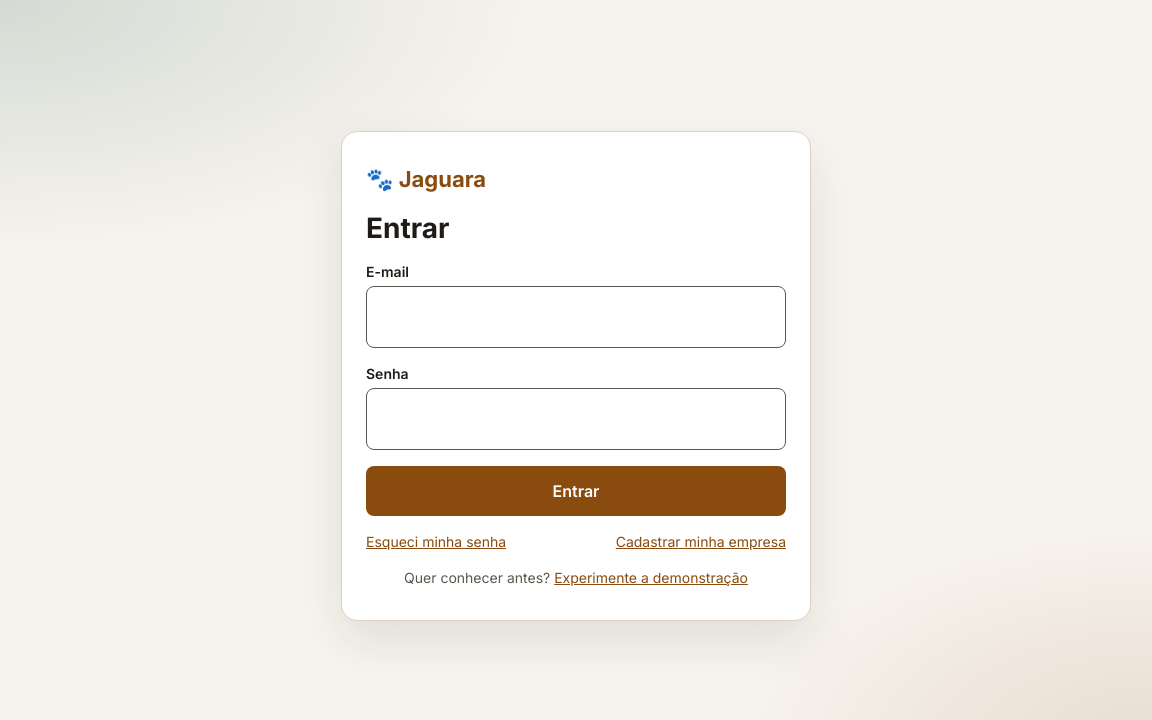
Tela de login da web (UC-02) › deve avisar o bloqueio de 5 minutos quando a conta foi bloqueada (RN03)
Type "clinica@exemplo.com" into the field labelled "E-mail". click: (576, 317)
box: top-left (366, 286), bottom-right (786, 348)
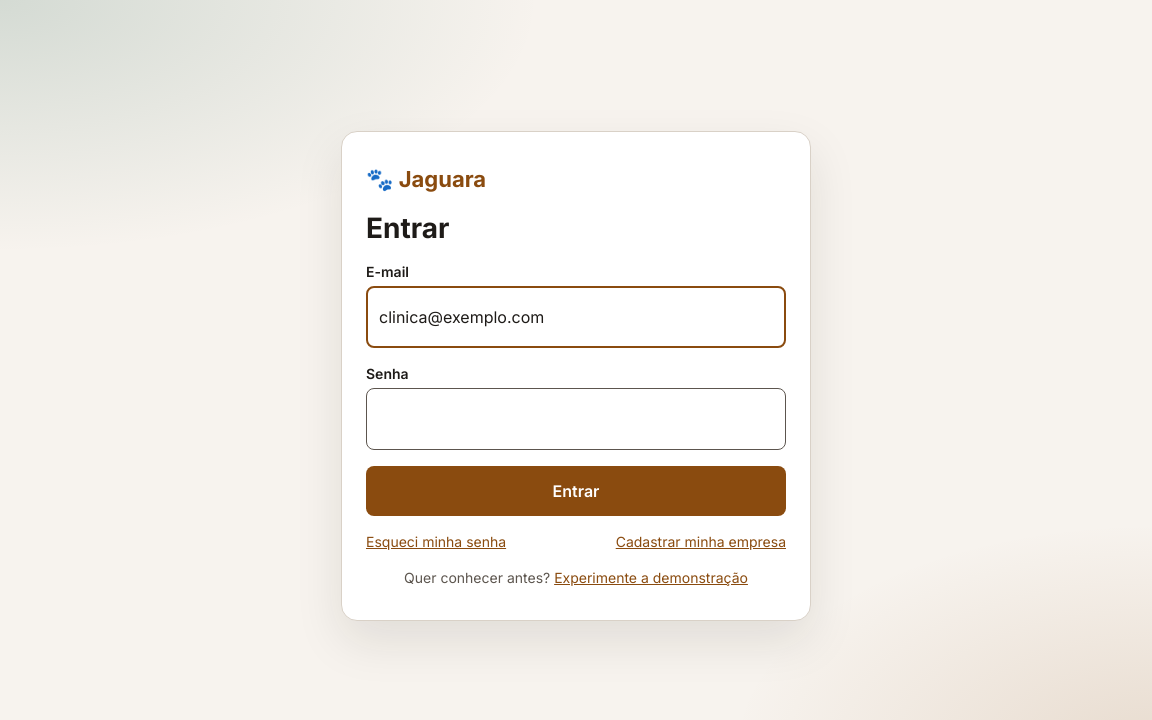
Type "Senha@123" into the password field labelled "Senha". click: (576, 419)
box: top-left (366, 388), bottom-right (786, 450)
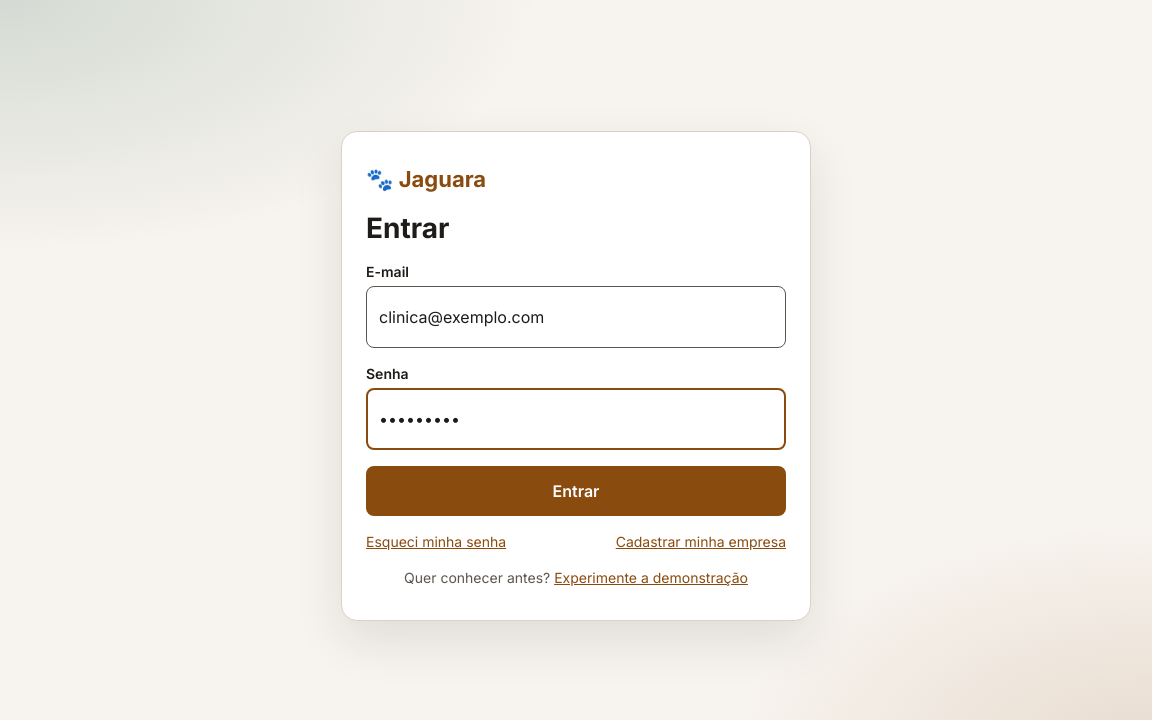
Click the button "Entrar". click: (576, 491)
box: top-left (366, 466), bottom-right (786, 516)
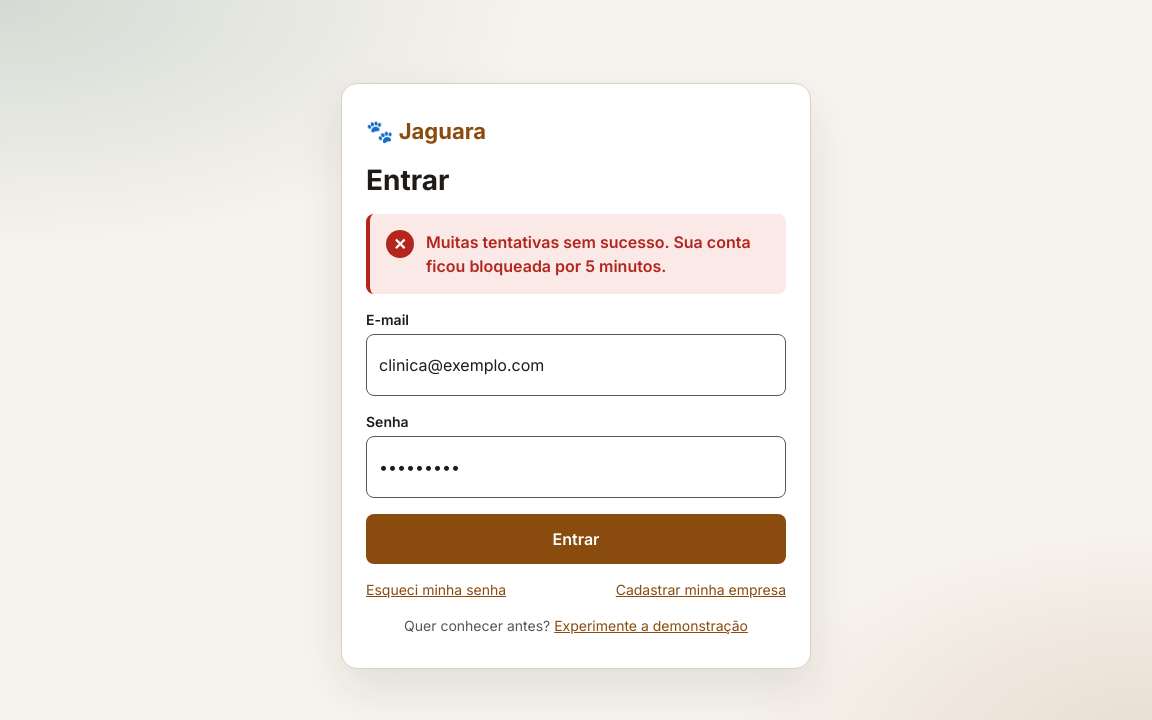
Now the message shows "bloqueada por 5 minutos", box top-left (426, 232), bottom-right (751, 276)
